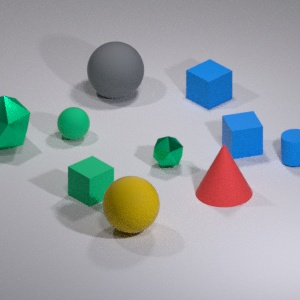lapphuong: (61, 153, 116, 209), (185, 57, 234, 111), (222, 103, 263, 160)
lucgiac: (0, 95, 32, 151), (145, 135, 187, 169)
non: (193, 142, 253, 208)
tron: (75, 38, 149, 103), (105, 176, 158, 236), (55, 106, 95, 143)
tru: (277, 127, 300, 169)
